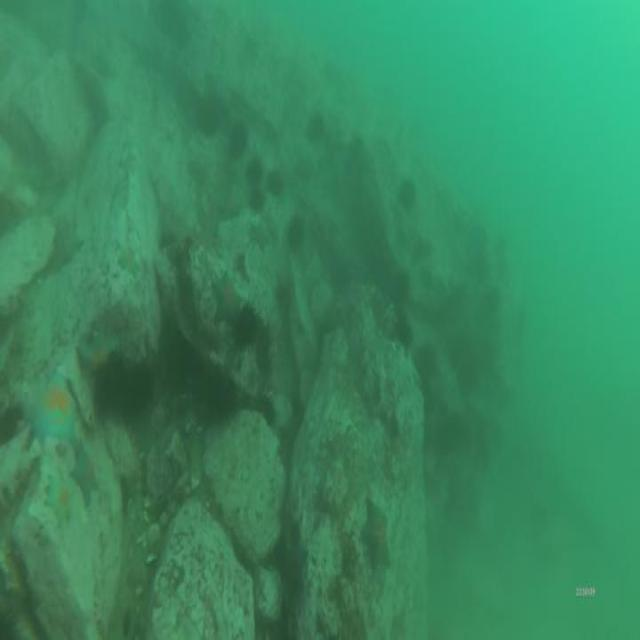echinus: (93, 349, 131, 414), (123, 359, 157, 417), (230, 300, 259, 351), (412, 338, 438, 382), (252, 388, 278, 426), (0, 398, 20, 446), (286, 215, 308, 257), (389, 266, 412, 304), (196, 102, 218, 140), (228, 120, 248, 161), (396, 176, 418, 213), (304, 109, 325, 147), (395, 312, 414, 352), (265, 164, 284, 201), (246, 180, 266, 215), (245, 150, 263, 185)
starfish: (28, 370, 80, 449), (362, 496, 394, 574), (67, 442, 101, 514), (42, 470, 79, 532), (74, 326, 122, 372), (210, 265, 242, 332), (278, 528, 310, 589), (115, 242, 142, 281), (247, 218, 271, 254)
